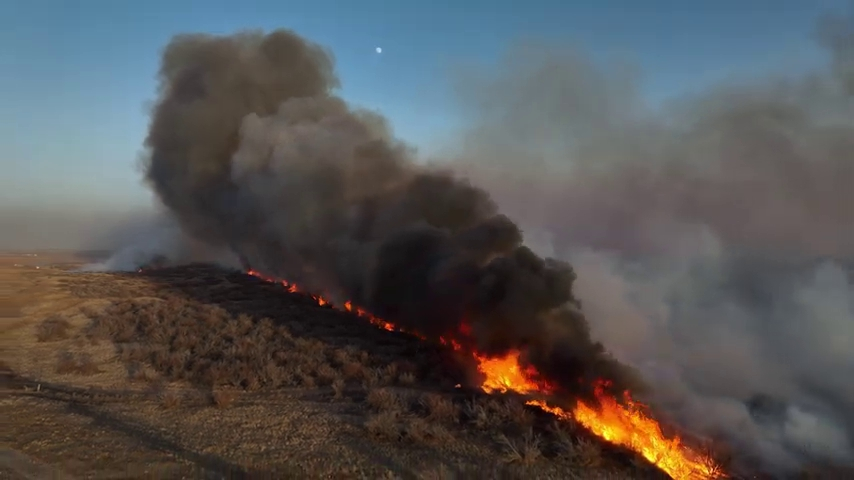forest_fire: (462, 350, 725, 479), (343, 300, 422, 336), (246, 269, 300, 291), (440, 338, 462, 350), (309, 294, 331, 305)
